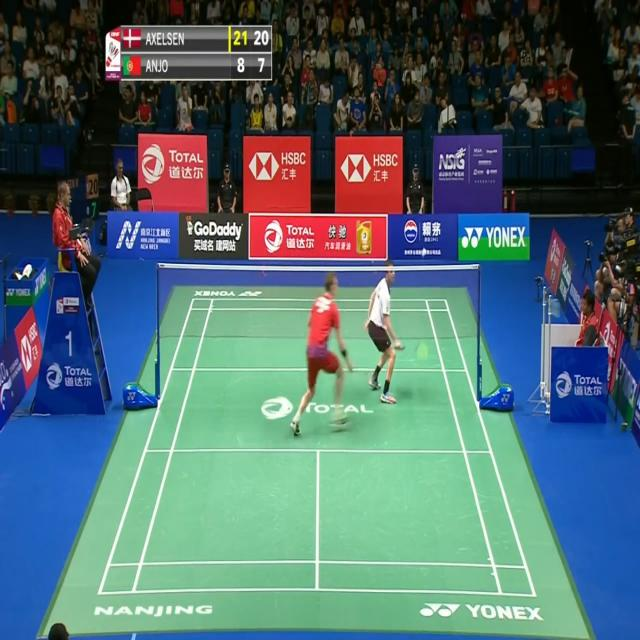Player1: (288, 269, 354, 440)
Player2: (364, 256, 408, 409)
